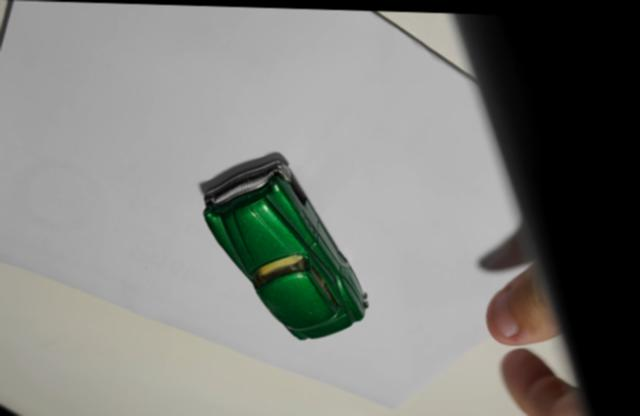06_MASERATI: (202, 149, 374, 337)
